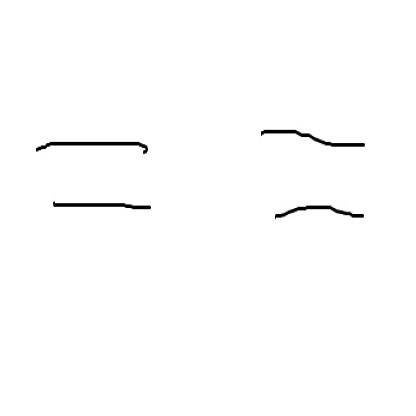-: (238, 101, 388, 291)
